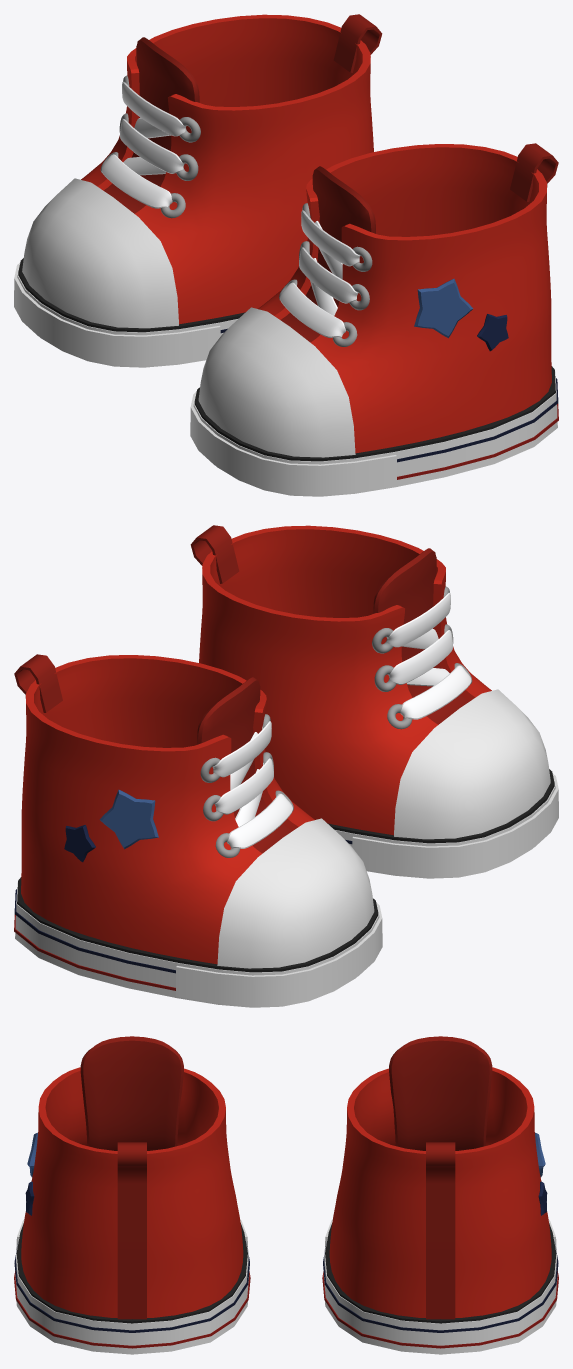
File: Sneakers.glb
3 renders of one model, top to bottom at view 1: azimuth 30°, elevation 25°; view 2: azimuth 150°, elevation 25°; view 3: azimuth 270°, elevation 25°, orthographic. The views are drawn at different scales.
Visible parts, largest first — view 1: shoes.baseright, shoes.baseleft, shoes.010, shoes.017, shoes.009, shoes.016, shoes.019, shoes.001, shoes.022, shoes.023, shoes.024, shoes.028 (+4 smaller); view 2: shoes.baseleft, shoes.baseright, shoes.017, shoes.010, shoes.016, shoes.009, shoes.001, shoes.019, shoes.023, shoes.022, shoes.026, shoes (+4 smaller); view 3: shoes.baseleft, shoes.baseright, shoes.023, shoes.022, shoes.009, shoes.016, shoes, shoes.028.
Boxes of the visible parts, box(x1,y1,x2,y2) form: shoes.baseright: box(258, 144, 551, 453); shoes.baseleft: box(81, 14, 373, 324); shoes.010: box(198, 307, 355, 457); shoes.017: box(22, 178, 178, 328); shoes.009: box(190, 366, 558, 496); shoes.016: box(14, 258, 245, 367); shoes.019: box(101, 81, 186, 208); shoes.001: box(280, 210, 360, 337); shoes.022: box(103, 37, 199, 213); shoes.023: box(280, 166, 375, 342); shoes.024: box(414, 278, 473, 338); shoes.028: box(333, 14, 382, 72); shoes.baseleft: box(21, 655, 314, 964); shoes.baseright: box(199, 525, 491, 835); shoes.017: box(217, 818, 374, 968); shoes.010: box(394, 689, 550, 839); shoes.016: box(14, 877, 382, 1007); shoes.009: box(327, 769, 558, 878); shoes.001: box(386, 592, 471, 719); shoes.019: box(212, 721, 292, 848); shoes.023: box(373, 548, 469, 724); shoes.022: box(197, 677, 292, 853); shoes.026: box(99, 789, 158, 849); shoes: box(190, 525, 239, 583); shoes.baseleft: box(329, 1067, 551, 1317); shoes.baseright: box(21, 1067, 243, 1317); shoes.023: box(80, 1036, 183, 1150); shoes.022: box(389, 1036, 492, 1150); shoes.009: box(14, 1219, 250, 1354); shoes.016: box(322, 1219, 558, 1354); shoes: box(117, 1142, 146, 1319); shoes.028: box(426, 1142, 455, 1319).
Size of the model in its own units: 0.2401 by 0.1817 by 0.386.
